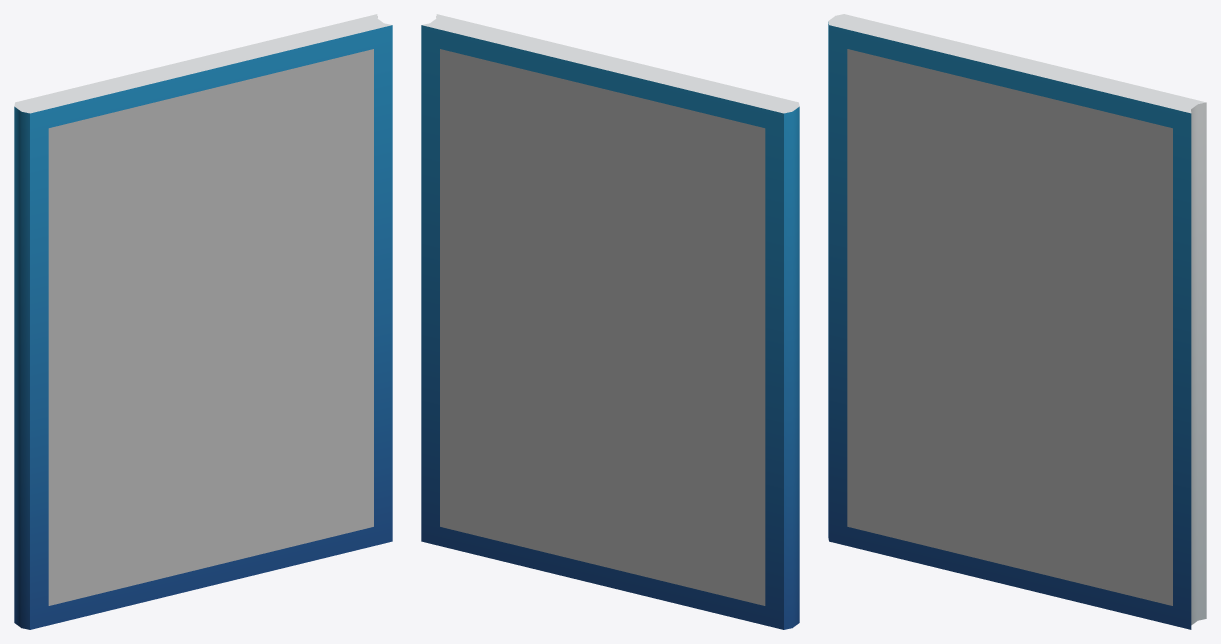
The model's file is comicbox_open_B.fbx.
3 views of the same model, side by side, from view 1: azimuth 30°, elevation 25°; view 2: azimuth 150°, elevation 25°; view 3: azimuth 330°, elevation 25° (orthographic).
Parts seen in each view (by area): view 1: comicbox_open_B; view 2: comicbox_open_B; view 3: comicbox_open_B.
Part boxes in pixels (bbox=[...]): comicbox_open_B: bbox=[14, 14, 392, 629]; comicbox_open_B: bbox=[421, 14, 799, 629]; comicbox_open_B: bbox=[828, 14, 1206, 629].
Bounding box in the file's own units: 0.5127 × 0.6894 × 0.0367.
